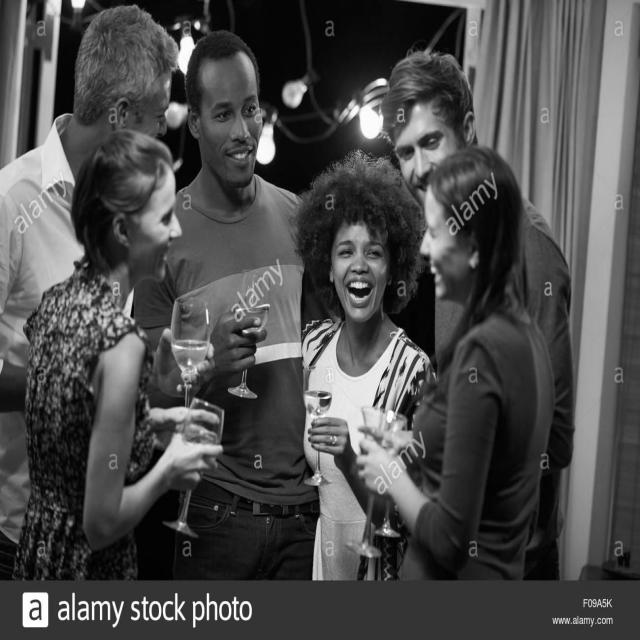person: (364, 147, 564, 580), (19, 124, 185, 568), (0, 6, 188, 346), (301, 172, 435, 571), (165, 22, 307, 374), (347, 54, 477, 184)
